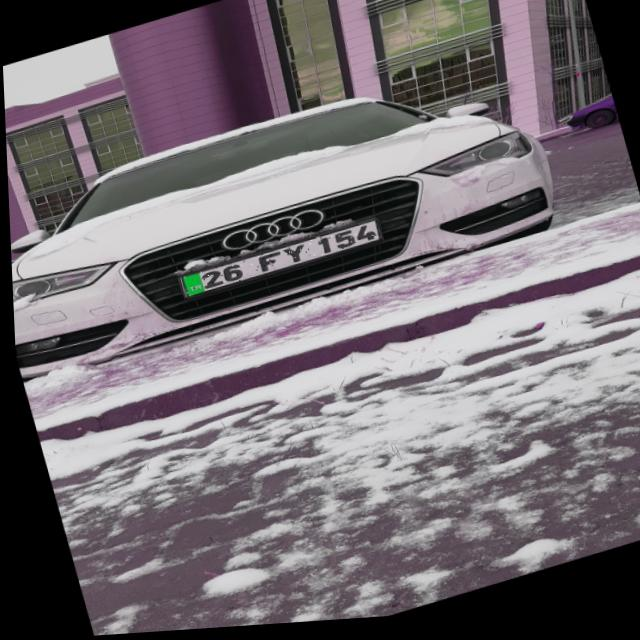license_plate: (175, 224, 380, 299)
